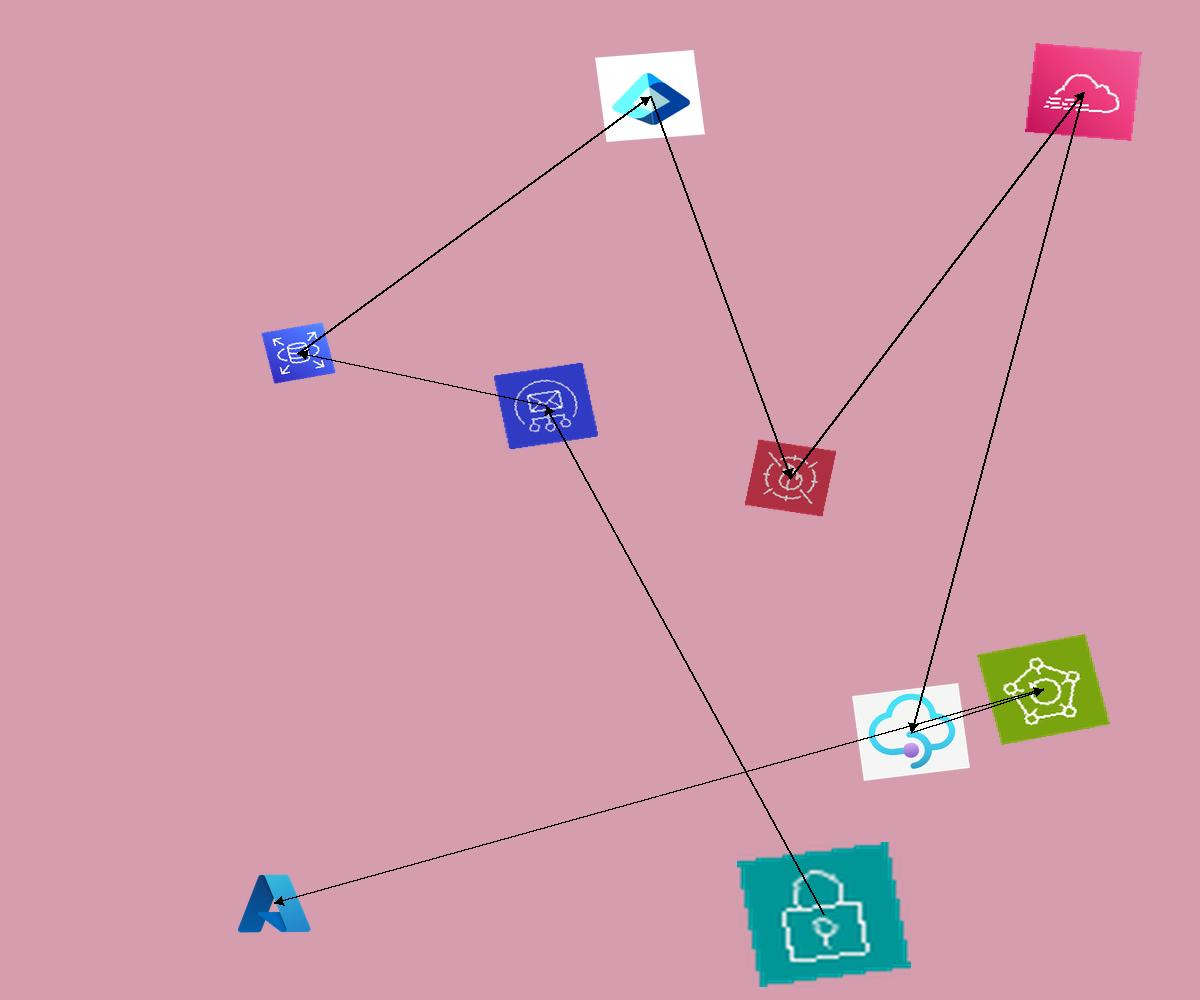AWS-Backup: (977, 634, 1110, 745)
AWS-CloudTrail: (1025, 43, 1142, 141)
AWS-Private-subnet: (737, 842, 911, 987)
AWS-RDS: (261, 322, 336, 384)
AWS-Simple-Email-Service: (493, 362, 599, 450)
AWS-WAF: (744, 439, 837, 517)
Azure_api_gateway: (852, 683, 970, 781)
Azure_microsoft_entra: (595, 50, 705, 142)
Azure_services: (234, 870, 314, 937)
